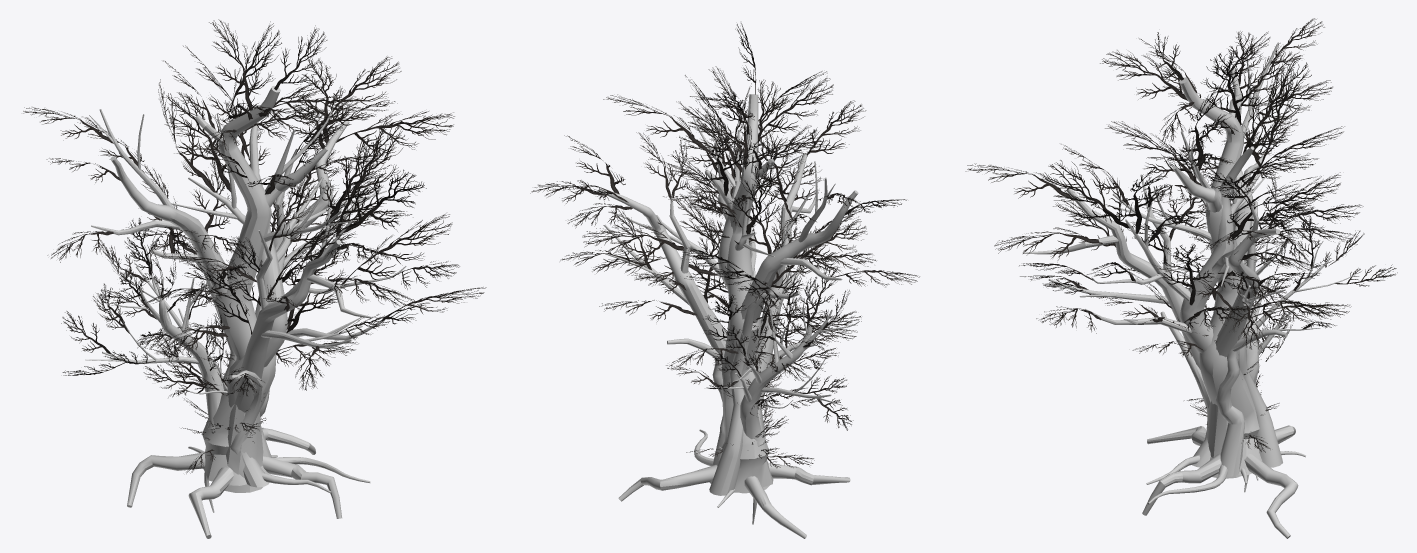
Rendered from trees.gltf.
3 views of the same model, side by side, from view 1: azimuth 30°, elevation 25°; view 2: azimuth 150°, elevation 25°; view 3: azimuth 270°, elevation 25° (orthographic). The views are drawn at different scales.
Parts seen in each view (by area): view 1: treeD.LOD0, treeD.branch.LOD0, treeB.branch.LOD0, treeB.LOD0, treeA.branch.LOD0, treeA.LOD0, treeE.branch.LOD0; view 2: treeD.LOD0, treeD.branch.LOD0, treeB.branch.LOD0, treeA.branch.LOD0, treeA.LOD0, treeB.LOD0, treeE.branch.LOD0; view 3: treeD.LOD0, treeD.branch.LOD0, treeB.branch.LOD0, treeB.LOD0, treeA.branch.LOD0, treeA.LOD0.
Boxes of the visible parts, x1,y1,x2,y2 form: treeD.LOD0: (89,86,380,538); treeD.branch.LOD0: (23,19,454,396); treeB.branch.LOD0: (158,21,486,334); treeB.LOD0: (171,106,406,493); treeA.branch.LOD0: (61,218,250,395); treeA.LOD0: (85,245,224,512); treeE.branch.LOD0: (181,350,266,473); treeD.LOD0: (598,94,858,538); treeD.branch.LOD0: (530,23,919,410); treeB.branch.LOD0: (582,66,824,340); treeA.branch.LOD0: (666,263,853,430); treeA.LOD0: (706,298,859,524); treeB.LOD0: (616,116,774,493); treeE.branch.LOD0: (686,390,814,468); treeD.LOD0: (1023,42,1298,538); treeD.branch.LOD0: (965,18,1363,357); treeB.branch.LOD0: (1019,49,1344,333); treeB.LOD0: (1085,104,1267,504); treeA.branch.LOD0: (1201,172,1397,361); treeA.LOD0: (1233,219,1355,492).
Size of what is drawn, in the model's own units: 25.14 by 30.21 by 24.72.
